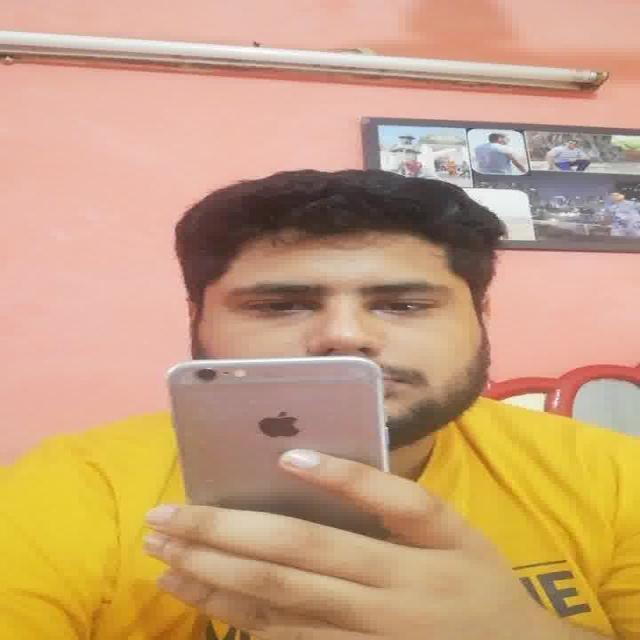Phone: (161, 358, 395, 556)
